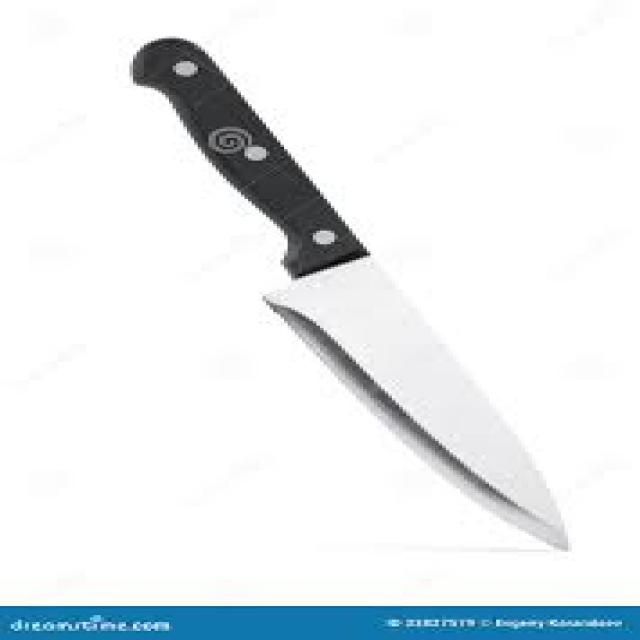Knife: (126, 36, 568, 550)
